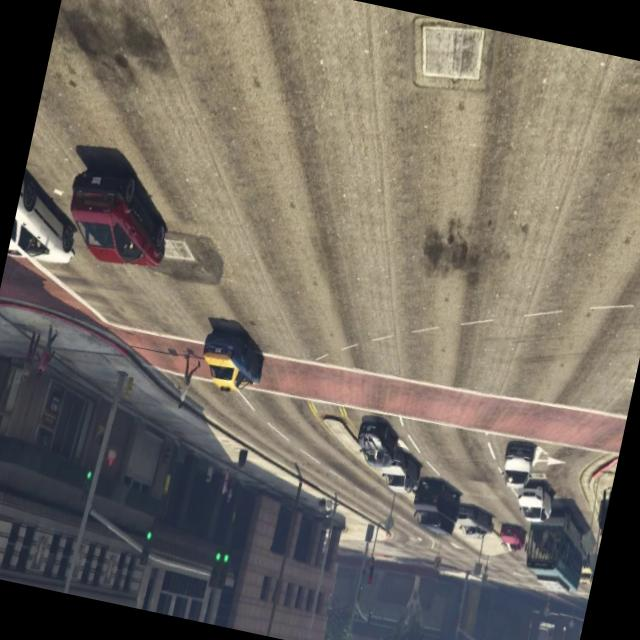Green-Signal: (198, 526, 242, 602), (130, 505, 165, 579), (70, 450, 102, 516)
